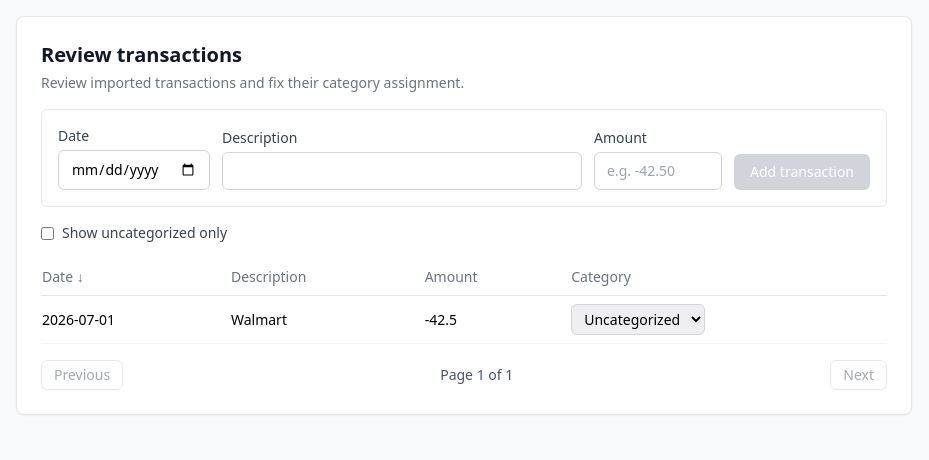
ReviewTransactions › shows the real backend error message when the PATCH fails
The image size is (929, 460).
Expected: the text "Walmart" is shown, [230,296,424,344]
Select "Dining" in the dropdown named "category for walmart" at (638, 320), box [571,304,705,335]
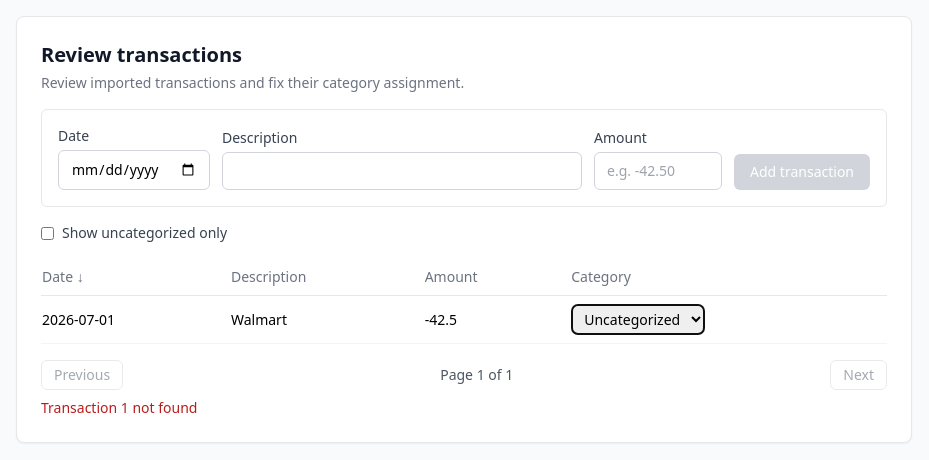
Now the text "Transaction 1 not found" is shown, box [41,398,198,417]
